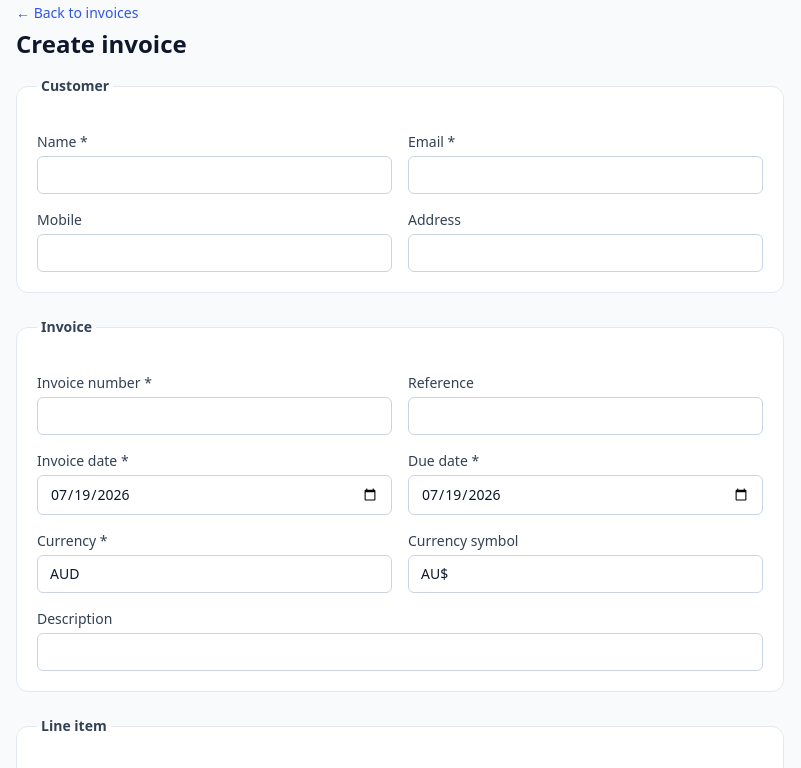
Scenario: CreateInvoicePage › rejects a due date before the invoice date
The width and height of the screenshot is (801, 768).
Type "2026-07-03" into the date field labelled "Invoice date *" at (214, 495), box [37,475,392,515]
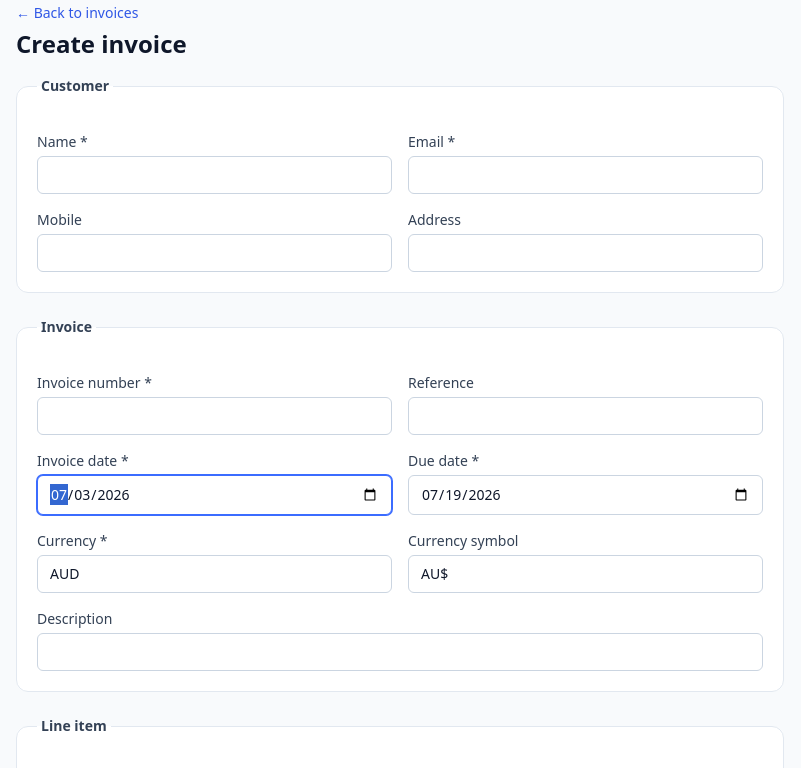
Type "2026-06-03" into the date field labelled "Due date *" at (586, 495), box [408,475,763,515]
(page scrolled)
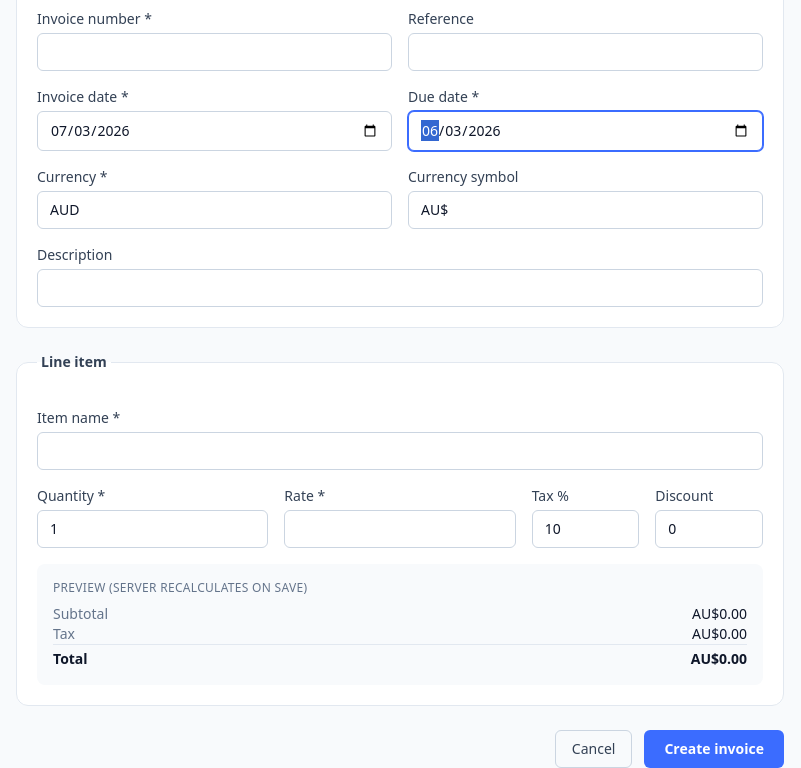
Click the button "Create invoice" at (714, 749), box [644,730,784,767]
(page scrolled)
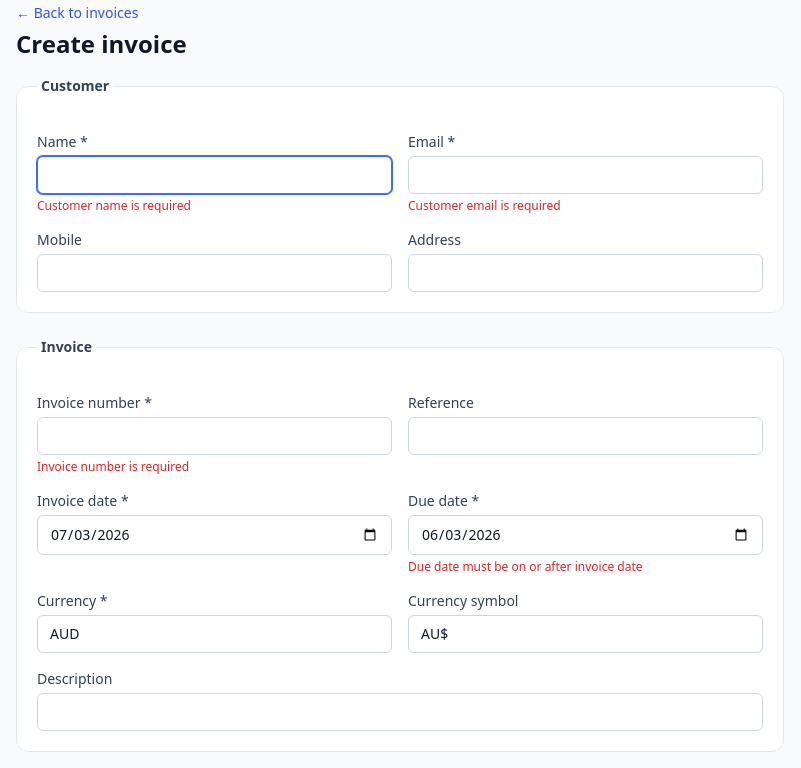
Now the text "Due date must be on or after invoice date" is shown, box [408,558,642,575]
